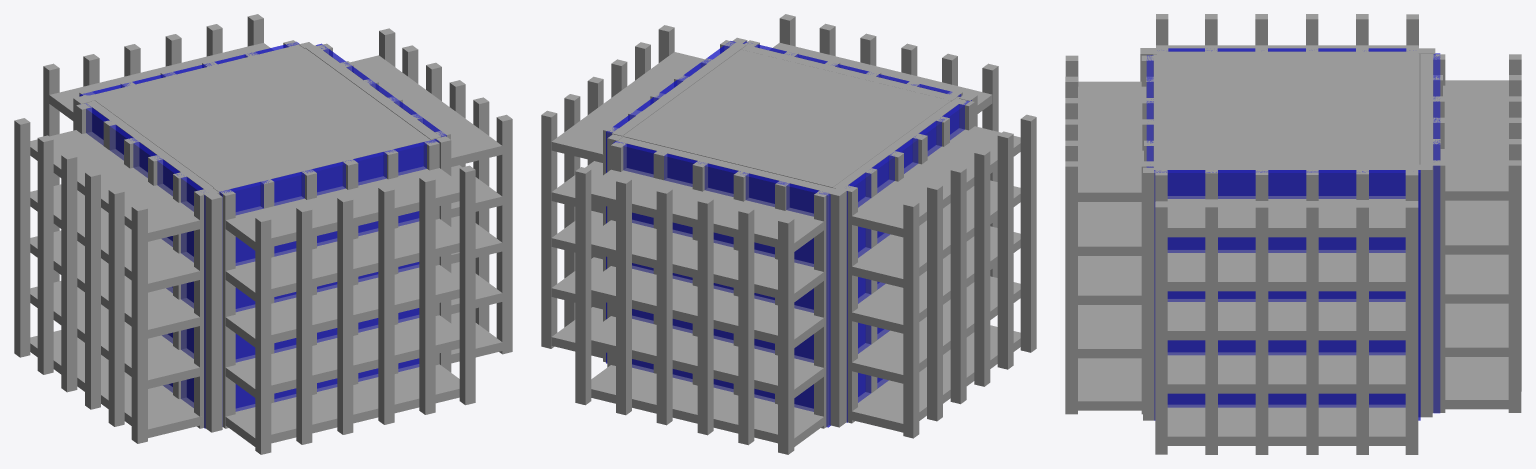
Rendered from building apartments.fbx.
3 views of the same model, side by side, from view 1: azimuth 30°, elevation 25°; view 2: azimuth 150°, elevation 25°; view 3: azimuth 270°, elevation 25° (orthographic). The views are drawn at different scales.
Visible parts, largest first — view 1: pCube81; view 2: pCube81; view 3: pCube81.
Boxes of the visible parts, x1,y1,x2,y2 form: pCube81: [14, 14, 512, 454]; pCube81: [541, 14, 1036, 454]; pCube81: [1065, 14, 1521, 454].
Bounding box in the file's own units: 36.59 × 21.8 × 36.29.
